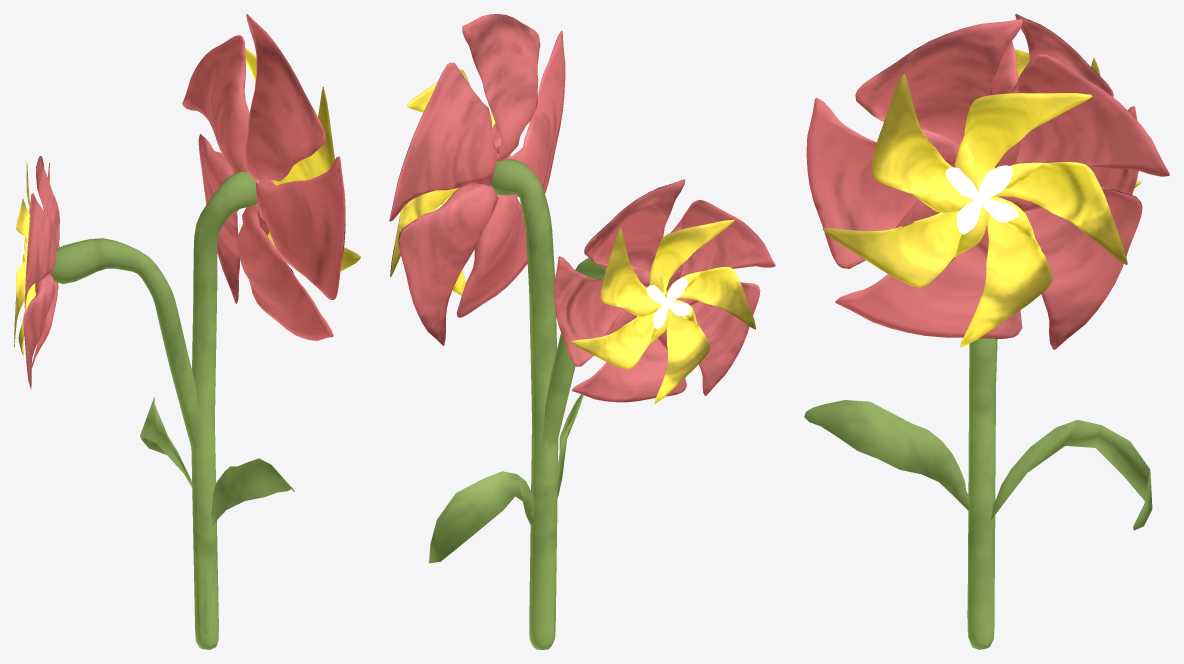
Rendered from AsterDead.fbx.
3 renders of one model, left to right at view 1: azimuth 30°, elevation 25°; view 2: azimuth 150°, elevation 25°; view 3: azimuth 270°, elevation 25°, orthographic. The views are drawn at different scales.
Parts seen in each view (by area): view 1: Windmill; view 2: Windmill; view 3: Windmill.
Part boxes in pixels (x1=…): Windmill: x1=14, y1=14, x2=360, y2=649; Windmill: x1=389, y1=14, x2=775, y2=649; Windmill: x1=804, y1=14, x2=1169, y2=649.
Bounding box in the file's own units: 214 × 434 × 217.
Materials: 1 (1 with a texture image).
